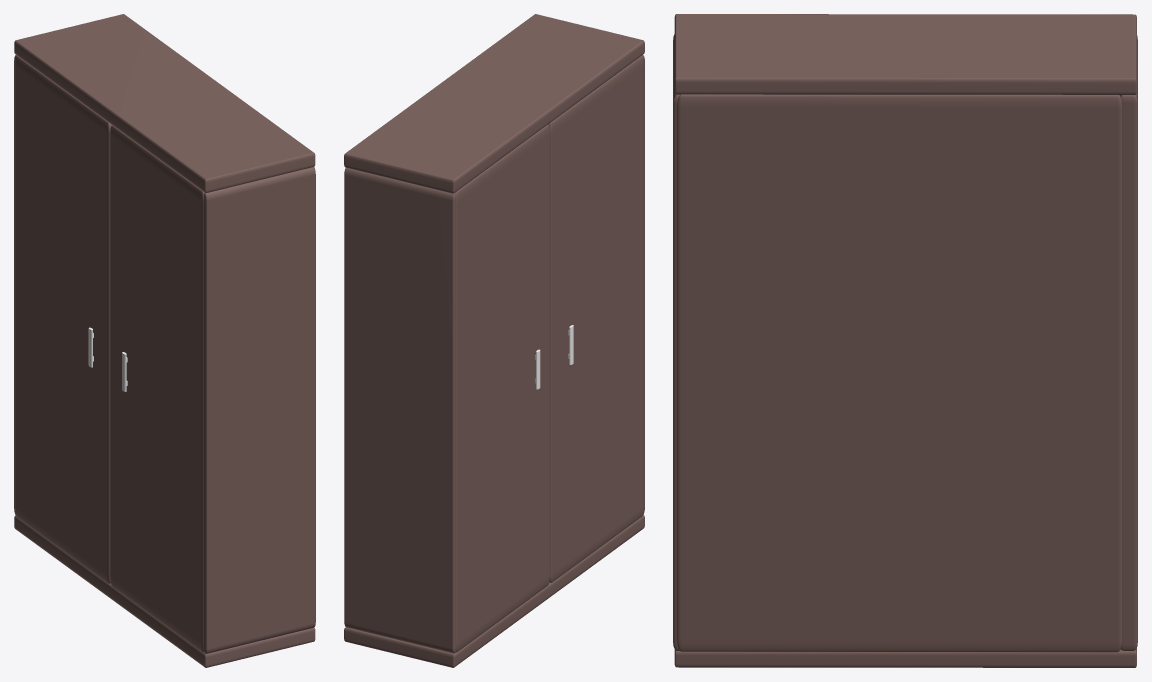
File: Lemari.fbx
3 renders of one model, left to right at view 1: azimuth 30°, elevation 25°; view 2: azimuth 150°, elevation 25°; view 3: azimuth 270°, elevation 25°, orthographic. The views are drawn at different scales.
Visible parts, largest first — view 1: pCube213.006, pCube220.003, pCube219.003, pCube218.003, pCube215.003, pCube217.003; view 2: pCube217.003, pCube220.003, pCube219.003, pCube218.003, pCube215.003, pCube213.006; view 3: pCube212.006, pCube218.003, pCube217.003, pCube215.003, pCube213.006.
Boxes of the visible parts, x1=… form: pCube213.006: x1=203, y1=167, x2=315, y2=653; pCube220.003: x1=15, y1=56, x2=112, y2=583; pCube219.003: x1=110, y1=125, x2=204, y2=652; pCube218.003: x1=14, y1=14, x2=315, y2=192; pCube215.003: x1=14, y1=515, x2=315, y2=667; pCube217.003: x1=14, y1=55, x2=16, y2=515; pCube217.003: x1=344, y1=167, x2=455, y2=653; pCube220.003: x1=455, y1=124, x2=550, y2=652; pCube219.003: x1=548, y1=56, x2=643, y2=582; pCube218.003: x1=344, y1=14, x2=644, y2=193; pCube215.003: x1=344, y1=514, x2=644, y2=667; pCube213.006: x1=642, y1=55, x2=644, y2=514; pCube212.006: x1=677, y1=94, x2=1122, y2=652; pCube218.003: x1=674, y1=14, x2=1136, y2=94; pCube217.003: x1=1120, y1=35, x2=1137, y2=650; pCube215.003: x1=674, y1=648, x2=1136, y2=667; pCube213.006: x1=673, y1=34, x2=679, y2=650.
Size of the model in its own units: 56.28 by 225 by 160.
